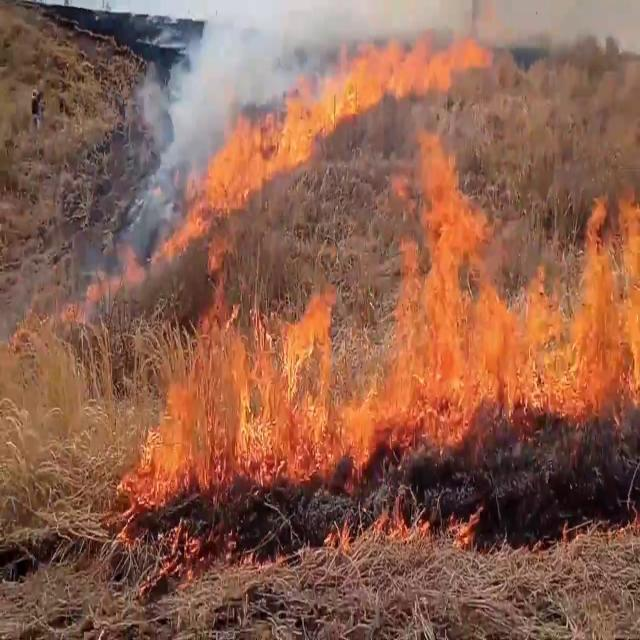Fire: (137, 135, 640, 519), (196, 12, 467, 206)
Smoke: (132, 0, 278, 185)
